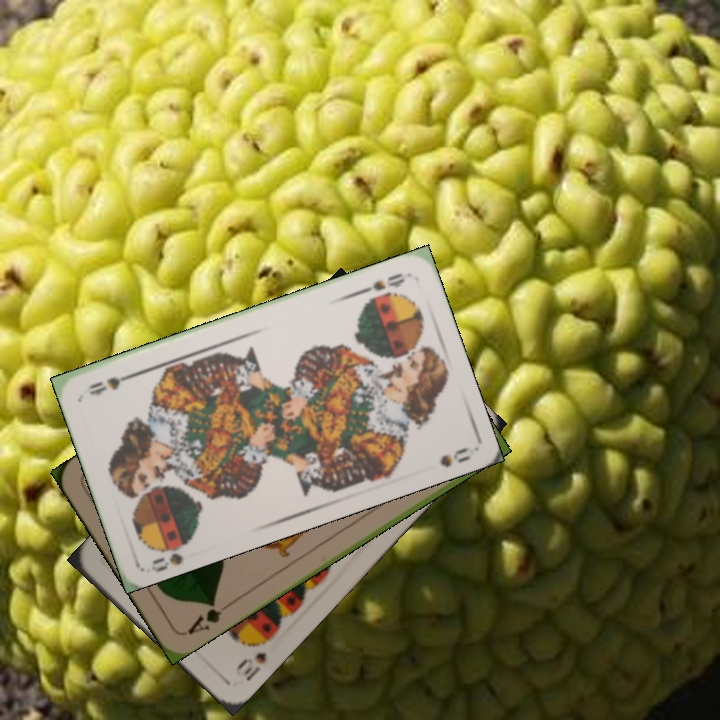GA: (183, 596, 234, 637)
S10: (231, 647, 269, 684)
SO: (147, 533, 196, 575), (354, 268, 407, 298)
